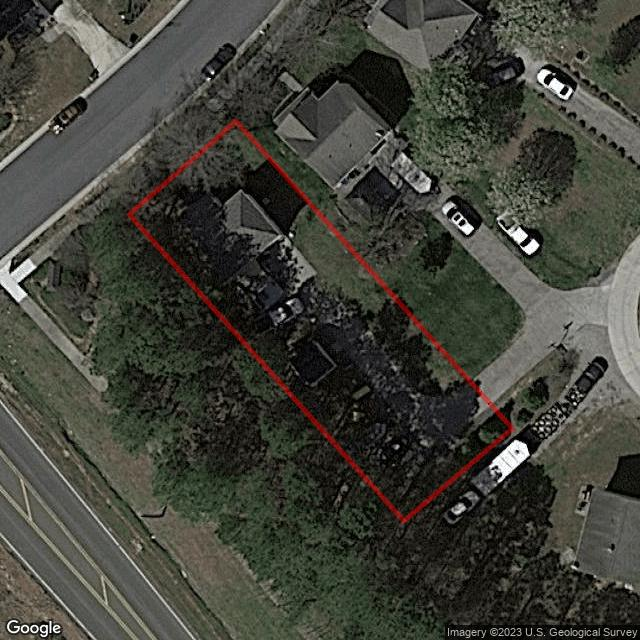Driveway: (279, 285, 493, 452)
Extra Driveway: (475, 320, 559, 405)
House: (176, 189, 319, 330)
Other: (283, 340, 338, 386)
